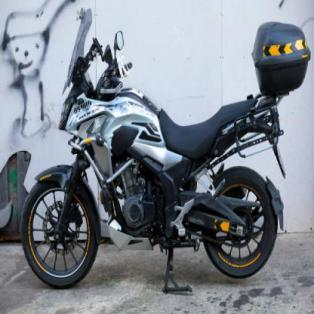Motocicleta: (14, 22, 314, 298)
